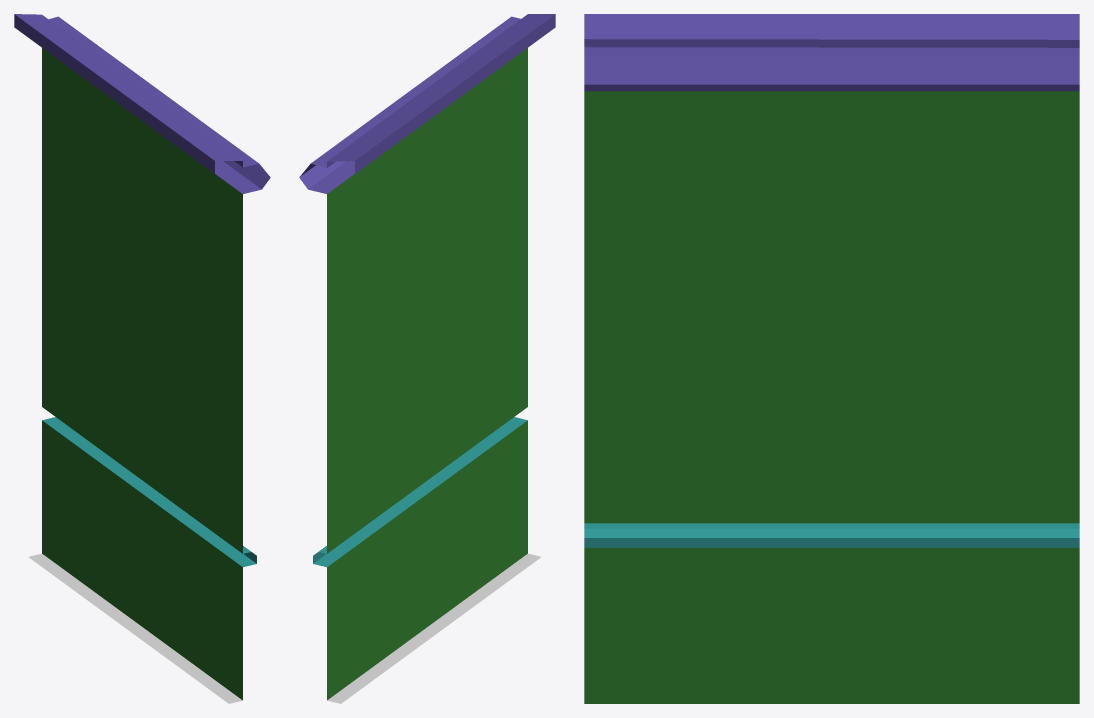
The picture shows the model from 3 angles, left to right: view 1: azimuth 30°, elevation 25°; view 2: azimuth 150°, elevation 25°; view 3: azimuth 270°, elevation 25°; orthographic projection. The views are drawn at different scales.
Parts seen in each view (by area): view 1: R_2.5x4; view 2: R_2.5x4; view 3: R_2.5x4.
Part boxes in pixels (x1,y1,x2,y2): R_2.5x4: (14,14,270,703); R_2.5x4: (299,14,555,703); R_2.5x4: (584,14,1079,703).
Bounding box in the file's own units: 28.7 × 269 × 179.
